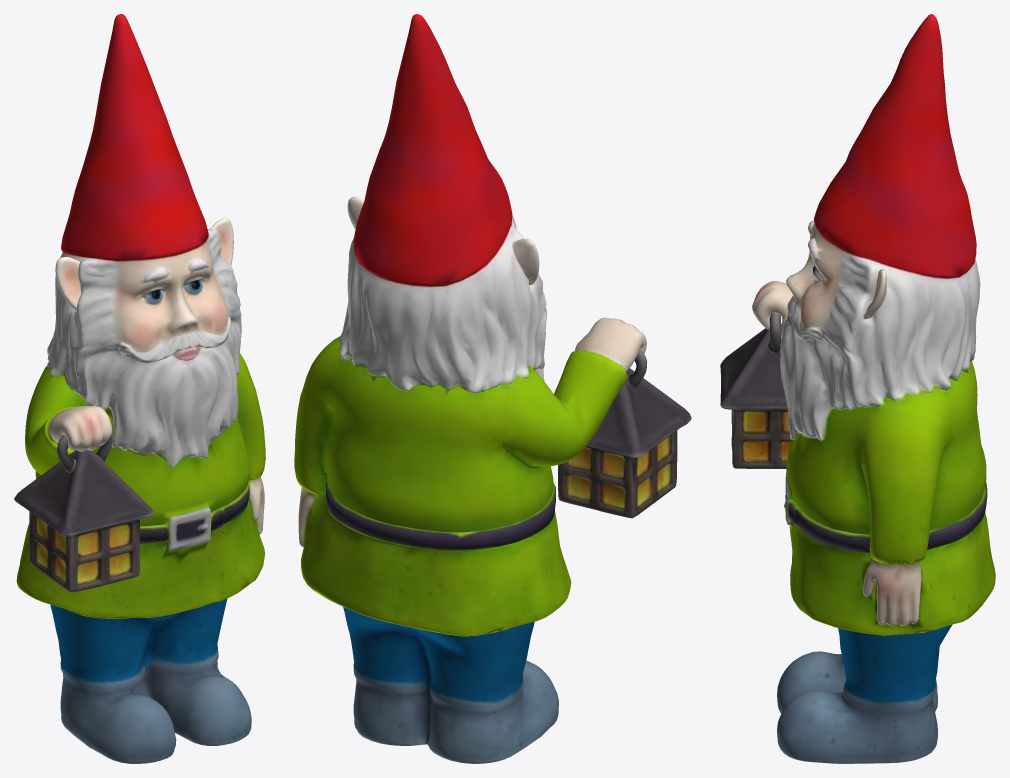
The model's file is garden_gnome.glb.
3 views of the same model, side by side, from view 1: azimuth 30°, elevation 25°; view 2: azimuth 150°, elevation 25°; view 3: azimuth 270°, elevation 25° (orthographic). The views are drawn at different scales.
Parts seen in each view (by area): view 1: garden_gnome; view 2: garden_gnome; view 3: garden_gnome.
Part boxes in pixels (<box>): garden_gnome: <box>14,14,265,763</box>; garden_gnome: <box>294,14,691,763</box>; garden_gnome: <box>720,14,995,763</box>.
Bounding box in the file's own units: 0.2578 × 0.5991 × 0.2097.
Materials: 1 (1 with a texture image).
